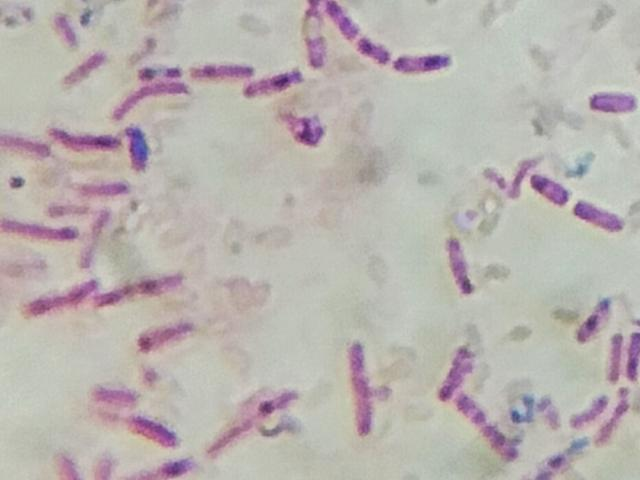E. coli: (212, 392, 295, 453), (458, 400, 516, 461), (349, 342, 385, 437), (92, 273, 187, 307), (119, 85, 196, 120), (571, 195, 629, 241), (18, 277, 97, 309), (538, 439, 594, 480), (443, 235, 479, 296), (136, 315, 196, 351), (79, 209, 115, 269), (248, 69, 310, 101), (61, 53, 110, 93), (568, 292, 605, 343), (0, 210, 65, 239), (435, 346, 473, 395), (526, 173, 572, 209), (191, 56, 256, 81), (299, 5, 326, 64), (52, 123, 113, 149), (588, 85, 634, 118), (136, 456, 199, 480), (396, 50, 456, 75), (125, 410, 171, 440), (52, 6, 86, 45), (5, 127, 49, 154), (601, 329, 621, 386), (573, 395, 608, 426), (122, 123, 147, 166), (601, 399, 626, 441), (139, 56, 180, 80), (49, 450, 79, 480), (327, 0, 356, 30), (362, 36, 394, 63), (76, 179, 137, 193), (628, 325, 640, 391), (95, 385, 132, 406), (91, 447, 114, 480), (53, 199, 92, 217), (331, 192, 333, 192)
